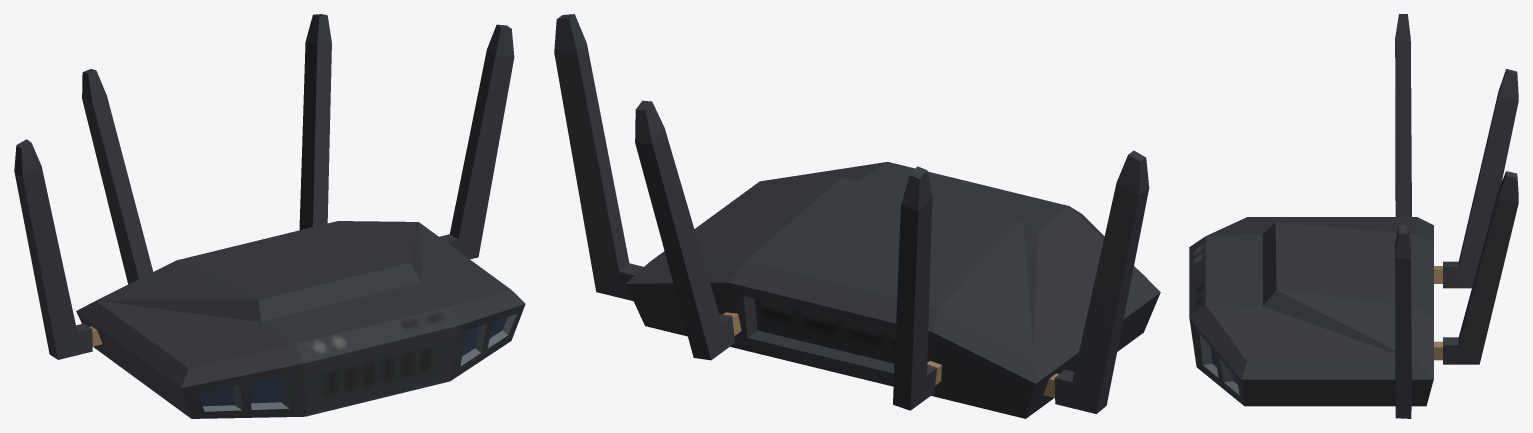
Rendered from SM_Prop_Computer_Modem_03.obj.
3 renders of one model, left to right at view 1: azimuth 30°, elevation 25°; view 2: azimuth 150°, elevation 25°; view 3: azimuth 270°, elevation 25°, orthographic. The views are drawn at different scales.
Parts seen in each view (by area): view 1: SM_Prop_Computer_Modem_03_0; view 2: SM_Prop_Computer_Modem_03_0; view 3: SM_Prop_Computer_Modem_03_0.
Boxes of the visible parts, bbox=[...] form: SM_Prop_Computer_Modem_03_0: bbox=[14, 14, 525, 418]; SM_Prop_Computer_Modem_03_0: bbox=[554, 14, 1160, 418]; SM_Prop_Computer_Modem_03_0: bbox=[1189, 14, 1518, 418].
Bounding box in the file's own units: 0.4452 × 0.2018 × 0.2818.
Materials: 1 (1 with a texture image).
